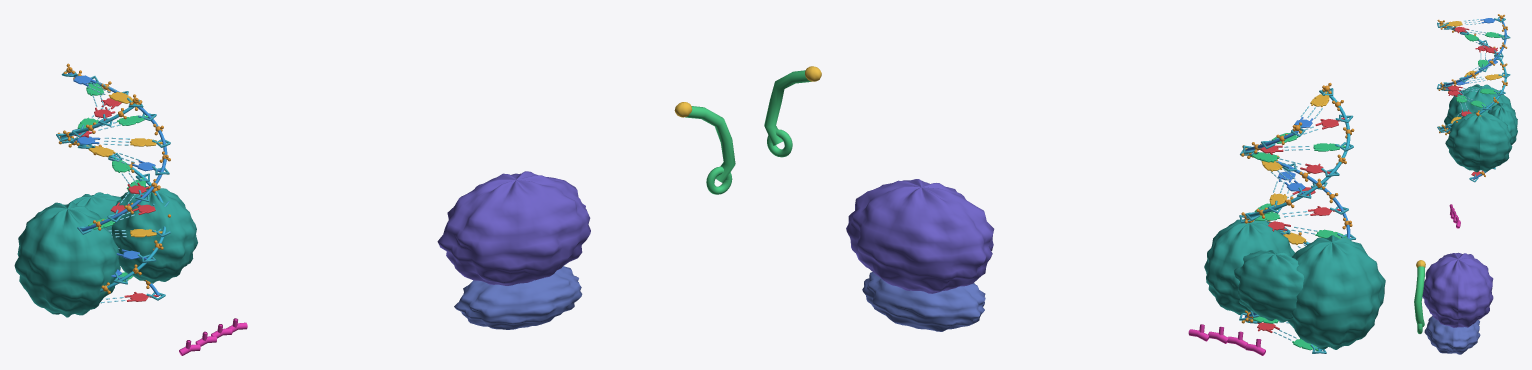
File: gene_expression_scene.glb
The picture shows the model from 3 angles, left to right: view 1: azimuth 30°, elevation 25°; view 2: azimuth 150°, elevation 25°; view 3: azimuth 270°, elevation 25°; orthographic projection. The views are drawn at different scales.
Parts seen in each view (by area): view 1: rna_polymerase, ribosome_large_subunit, ribosome_small_subunit, trna_folded_backbone, rna_polymerase_bridge; view 2: ribosome_large_subunit, rna_polymerase, ribosome_small_subunit, rna_polymerase_bridge, trna_folded_backbone; view 3: ribosome_large_subunit, rna_polymerase, ribosome_small_subunit, rna_polymerase_bridge, trna_folded_backbone.
Boxes of the visible parts, x1,y1,x2,y2 form: rna_polymerase: (14,186,197,317); ribosome_large_subunit: (437,171,590,285); ribosome_small_subunit: (454,266,582,329); trna_folded_backbone: (685,106,735,182); rna_polymerase_bridge: (71,192,120,232); ribosome_large_subunit: (846,179,994,293); rna_polymerase: (1204,219,1385,349); ribosome_small_subunit: (862,272,985,331); rna_polymerase_bridge: (1231,250,1304,322); trna_folded_backbone: (764,70,811,145); ribosome_large_subunit: (1422,252,1493,327); rna_polymerase: (1444,84,1514,172); ribosome_small_subunit: (1424,316,1480,354); rna_polymerase_bridge: (1488,103,1517,145); trna_folded_backbone: (1414,266,1424,326).
Size of the model in its own units: 11.92 by 5.65 by 2.58.
